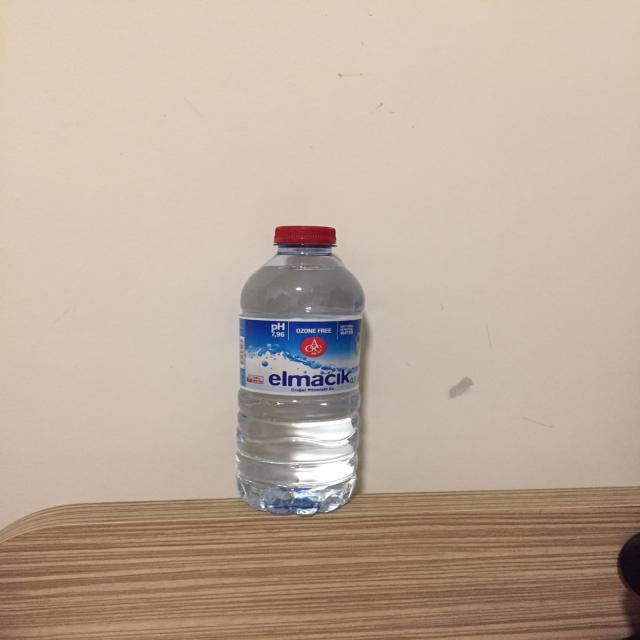bottle: (220, 203, 370, 515)
